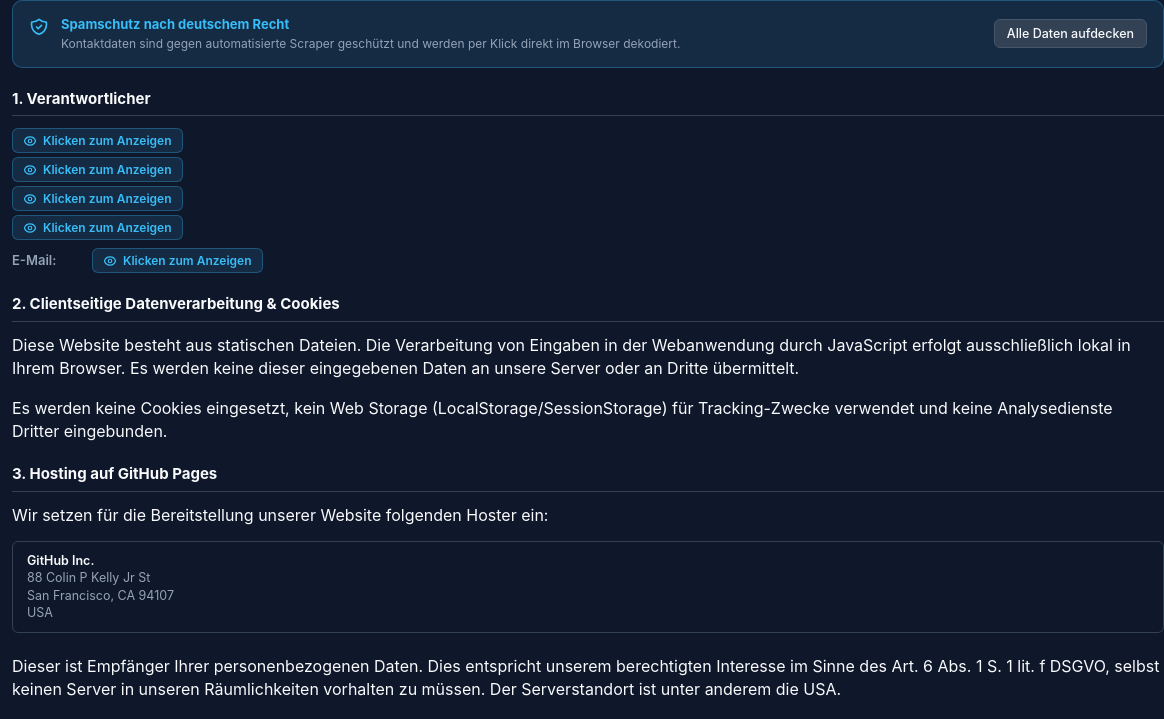
it: Rechtliche Komponenten & Impressum › PrivacyPolicyContent › rendert alle 5 DSGVO-Abschnitte und den Spamschutz-Banner identisch zum Impressum
Check: the text "Spamschutz nach deutschem Recht" is shown, box [61,16,289,32]
Check: the heading "1. Verantwortlicher" is shown, box [12,88,1163,116]
Click the button "Alle Daten aufdecken". click: (1070, 34)
box: [994,19,1147,48]
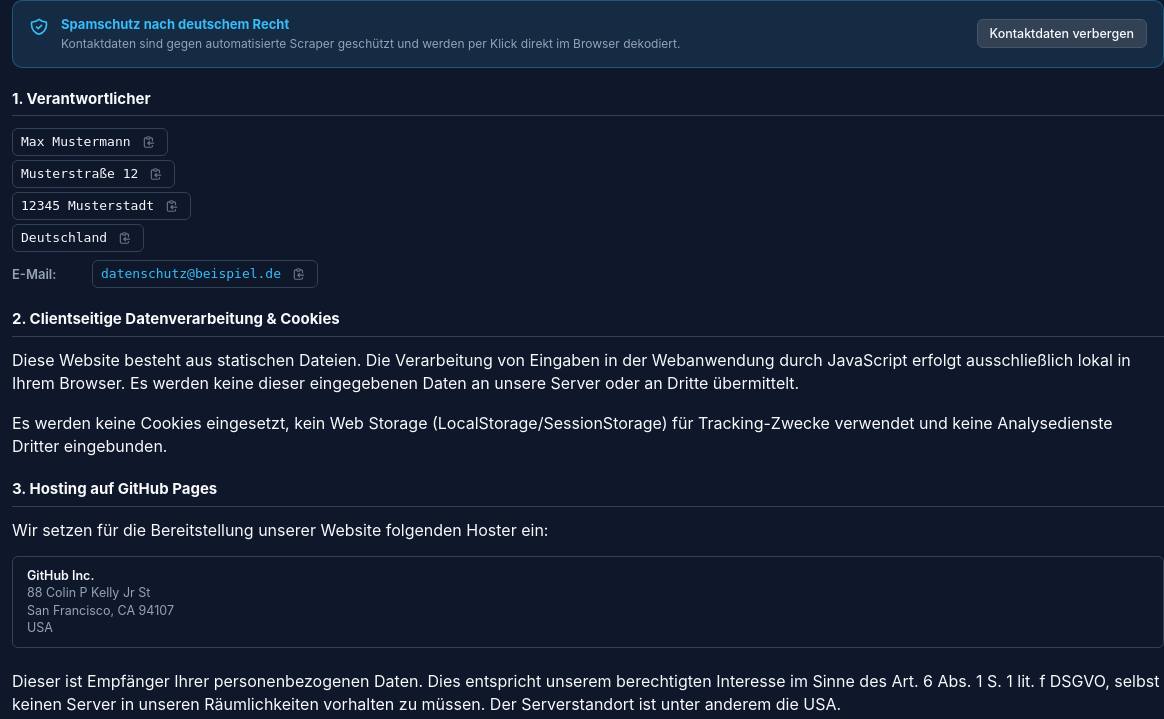
Check: the text "Max Mustermann" is shown, box [21,133,131,152]
Check: the link "datenschutz@beispiel.de" is shown, box [101,265,281,284]
